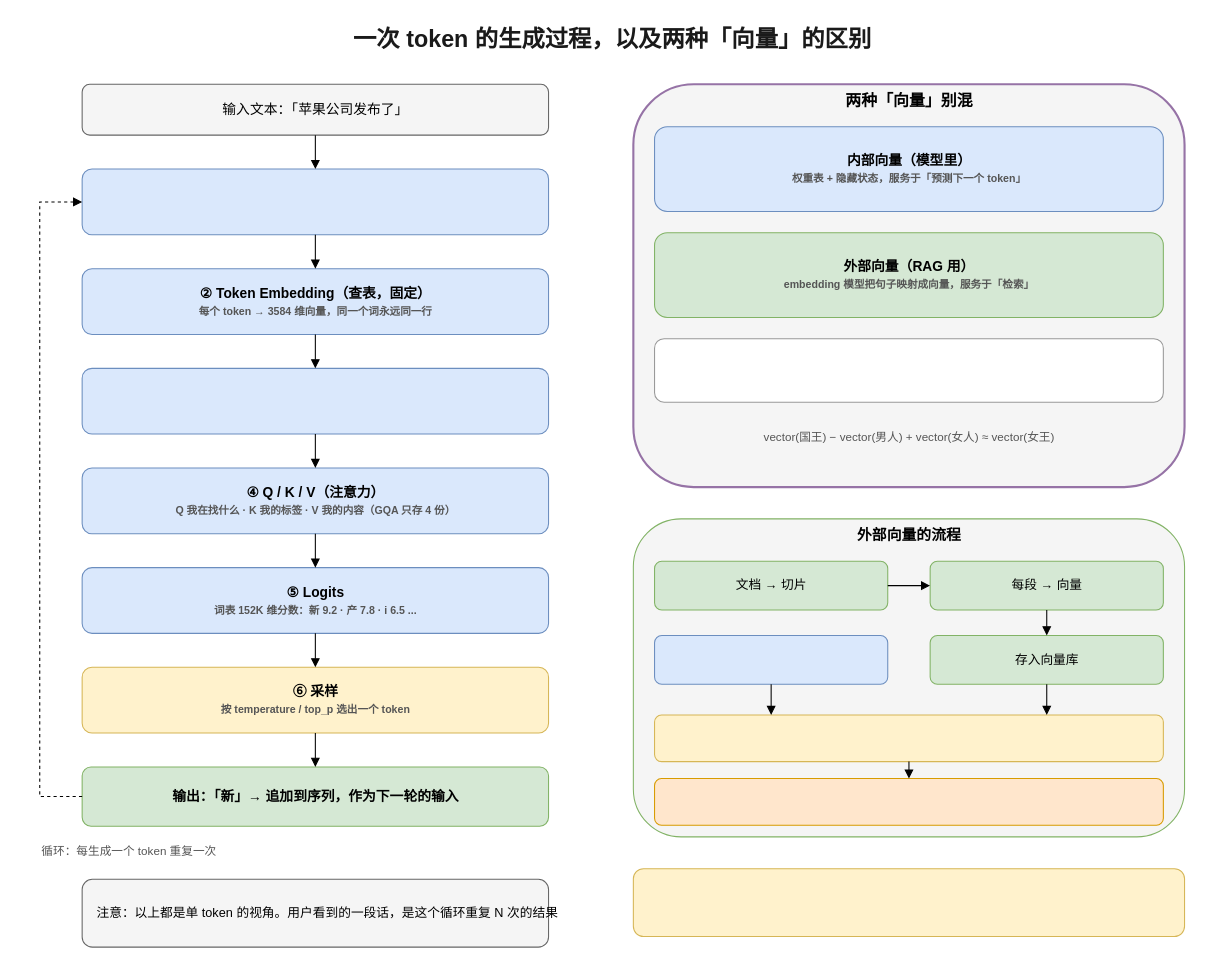
This 1223x966 diagram has some shape labels left out. Here are the shapes that lost their labels. From the top down, the centre of each, then its label:
At [315,201]: "① Token 化 文本 → token id：苹果 / 公司 / 发布 / 了".
At [908,370]: "相同：都是数字数组；语义越近，向量距离越小 不同：内部向量参与生成，外部向量参与查找".
At [315,400]: "③ Transformer × 28 层 隐藏状态融入上下文：「苹果」变成 Apple Inc.".
At [770,659]: "查询 → 同一个 embedding 模型 → 向量".
At [908,738]: "余弦相似度找最近的几段".
At [908,801]: "把这几段原文塞进 LLM 的 prompt".
At [908,902]: "temperature 速记：T=0 永远选最高分（工具 / JSON 用 0~0.3）；T 越高越随机（创作 0.9+）".
